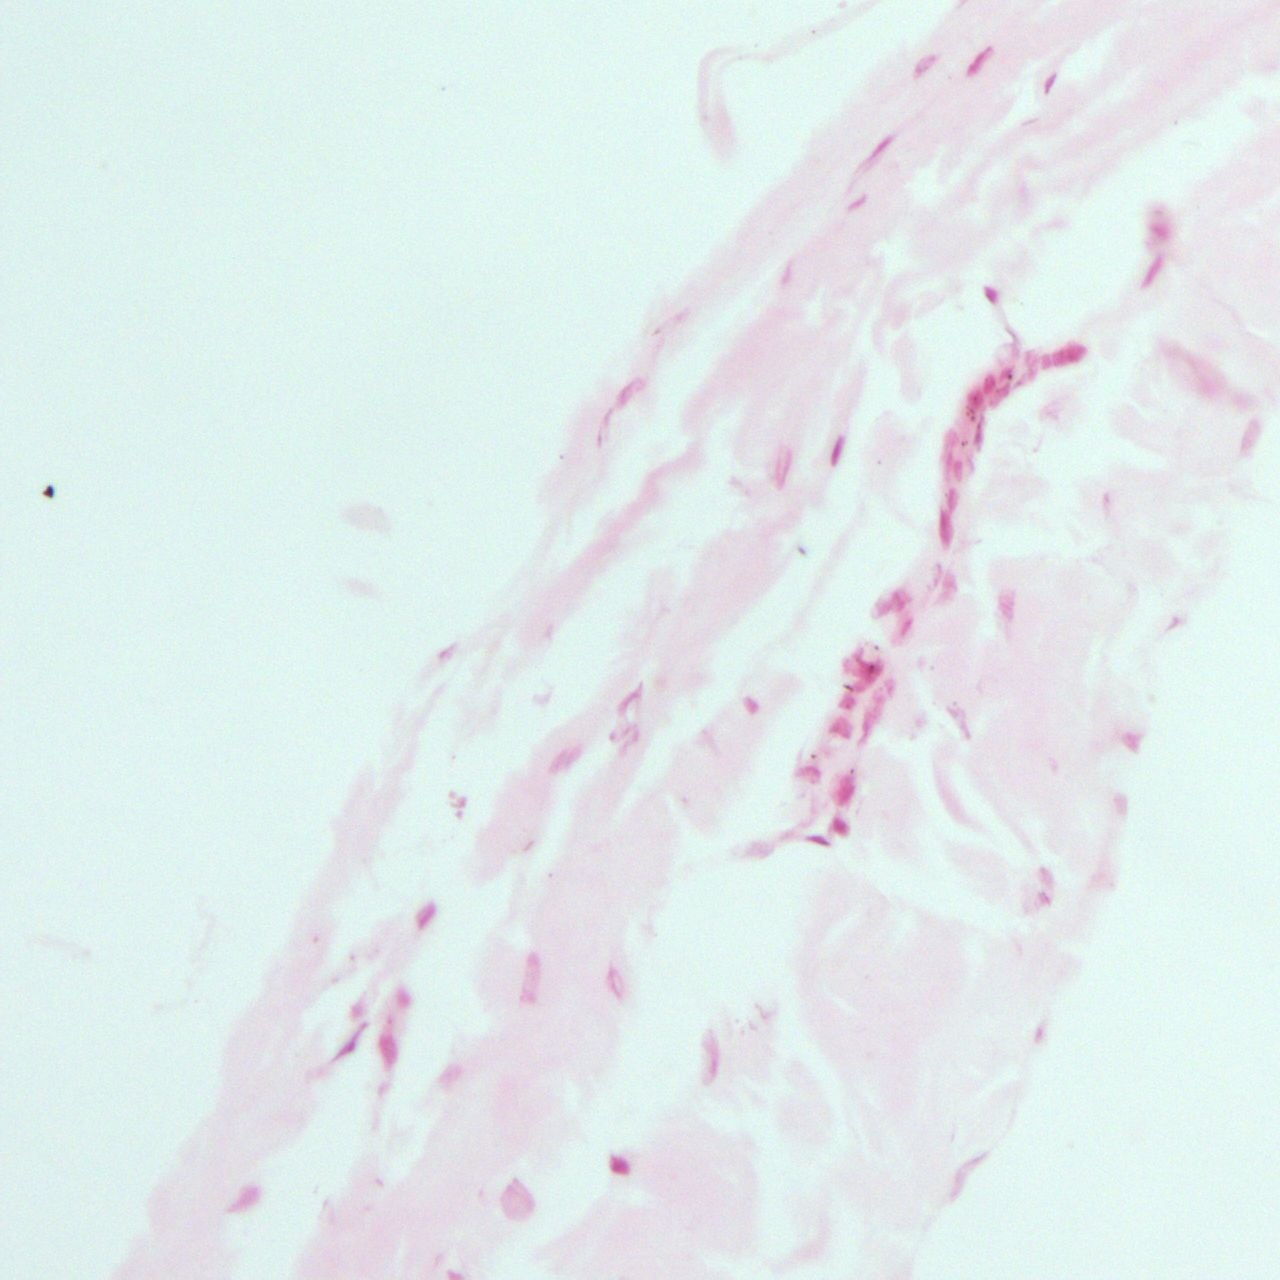dust: (42, 485, 54, 497)
nucleus-AC: (586, 372, 651, 452), (845, 674, 898, 754), (940, 1141, 990, 1200), (847, 131, 898, 185), (608, 682, 642, 745), (865, 583, 915, 625), (840, 641, 881, 692), (331, 1020, 373, 1068), (225, 1179, 266, 1220), (885, 606, 922, 649), (825, 767, 862, 810), (497, 1179, 535, 1220), (549, 738, 585, 778), (407, 897, 443, 934), (931, 568, 964, 610), (1235, 415, 1267, 457), (598, 960, 629, 1000), (518, 952, 540, 1008), (1138, 248, 1167, 290), (434, 1061, 467, 1096), (964, 43, 996, 79), (769, 442, 792, 490), (937, 425, 959, 471), (702, 1030, 721, 1084), (377, 1030, 400, 1070), (996, 591, 1016, 633), (908, 50, 938, 79), (1033, 863, 1058, 893), (828, 433, 849, 468), (346, 993, 372, 1021), (988, 381, 1013, 409), (971, 413, 988, 451), (844, 191, 871, 215), (938, 510, 953, 550), (1160, 611, 1185, 635), (435, 641, 461, 663), (795, 764, 822, 784), (828, 715, 851, 737), (1063, 342, 1088, 363), (1039, 72, 1060, 95), (608, 1155, 629, 1176), (1121, 731, 1142, 753), (390, 988, 409, 1012), (1198, 377, 1221, 395), (967, 387, 983, 411), (1149, 222, 1169, 241), (945, 486, 959, 515), (1012, 372, 1030, 393), (1050, 348, 1069, 367), (837, 693, 857, 710), (982, 372, 998, 394), (1034, 891, 1053, 908), (779, 261, 794, 285), (952, 458, 966, 482), (831, 816, 847, 836), (1114, 794, 1128, 816), (806, 835, 829, 847), (998, 366, 1016, 381), (1101, 492, 1111, 517), (1027, 359, 1039, 380), (983, 286, 998, 304), (1033, 1024, 1046, 1043), (745, 697, 760, 714), (1039, 354, 1051, 370), (445, 1271, 465, 1280)
